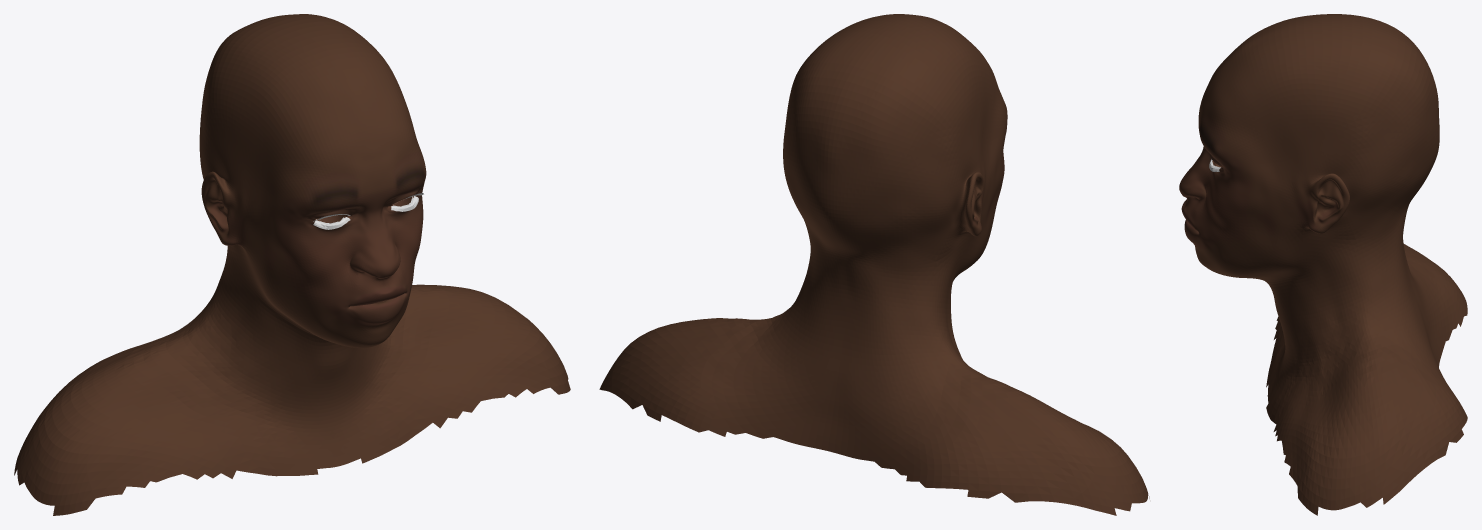
Rendered from hd_m_dark_full.glb.
3 renders of one model, left to right at view 1: azimuth 30°, elevation 25°; view 2: azimuth 150°, elevation 25°; view 3: azimuth 270°, elevation 25°, orthographic. The views are drawn at different scales.
Visible parts, largest first — view 1: skin; view 2: skin; view 3: skin.
Part boxes in pixels (x1,y1,x2,y2): skin: [14, 14, 570, 515]; skin: [599, 14, 1149, 515]; skin: [1179, 14, 1467, 515].
Bounding box in the file's own units: 0.437 × 0.3292 × 0.2278.
